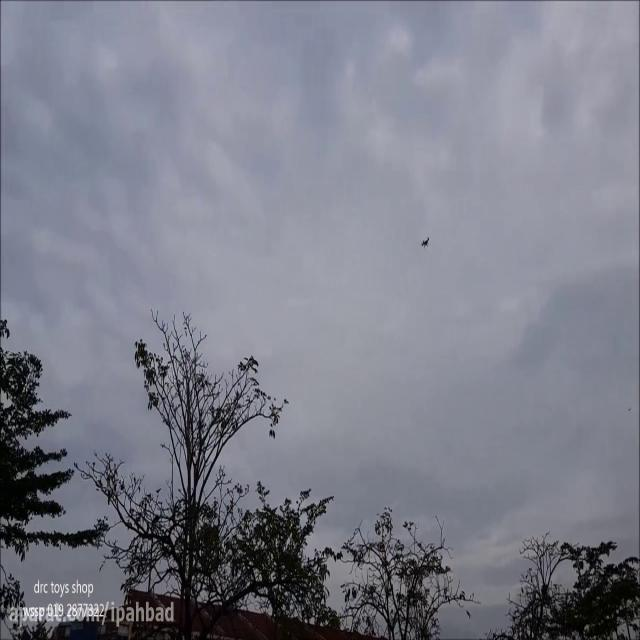drone: (421, 234, 431, 249)
